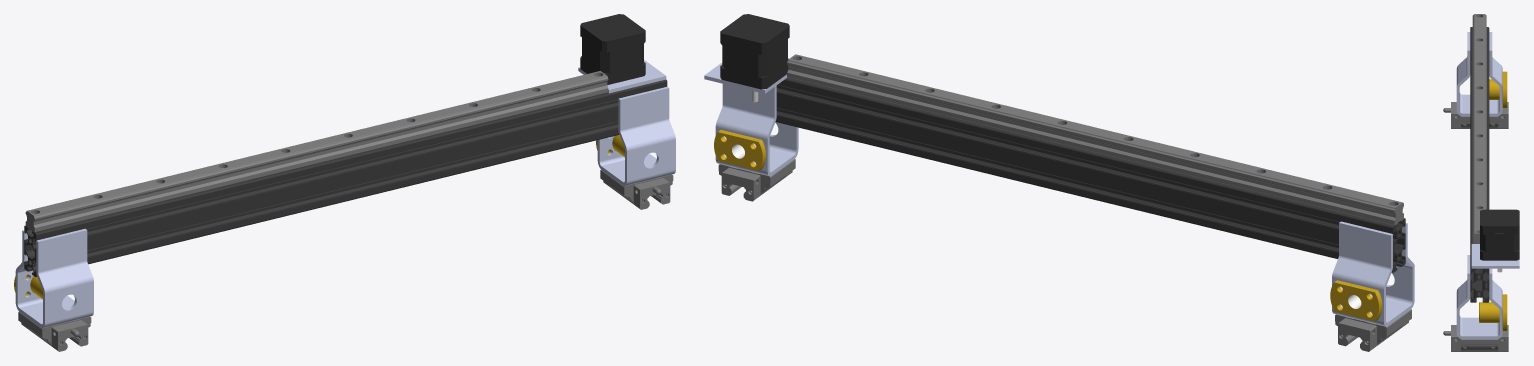
The model's file is y_axis_assembly.glb.
3 views of the same model, side by side, from view 1: azimuth 30°, elevation 25°; view 2: azimuth 150°, elevation 25°; view 3: azimuth 270°, elevation 25° (orthographic). The views are drawn at different scales.
Parts seen in each view (by area): view 1: y_axis_assembly; view 2: y_axis_assembly; view 3: y_axis_assembly.
Part boxes in pixels (x1,y1,x2,y2): y_axis_assembly: (14,14,675,351); y_axis_assembly: (704,14,1414,351); y_axis_assembly: (1443,14,1519,351).
Size of the model in its own units: 0.605 by 0.1452 by 0.0809.
